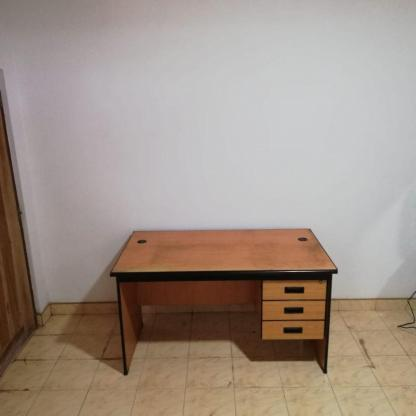Table: (94, 222, 356, 383)
